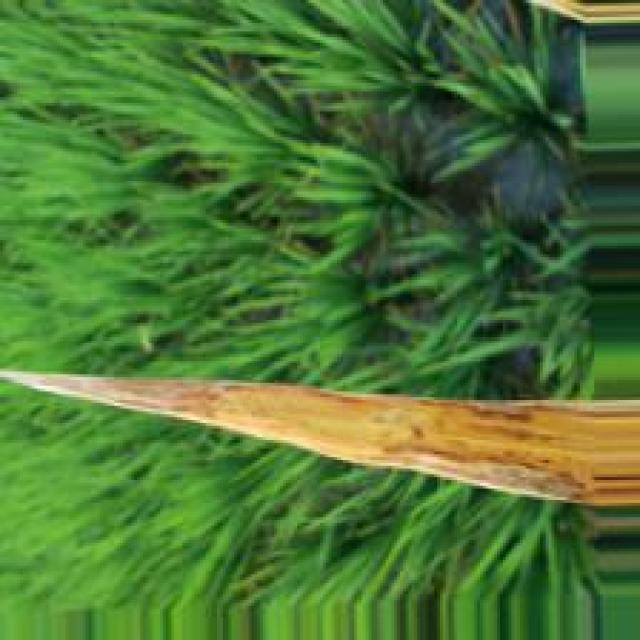Bacterial_Leaf_Blight: (2, 371, 640, 510)
